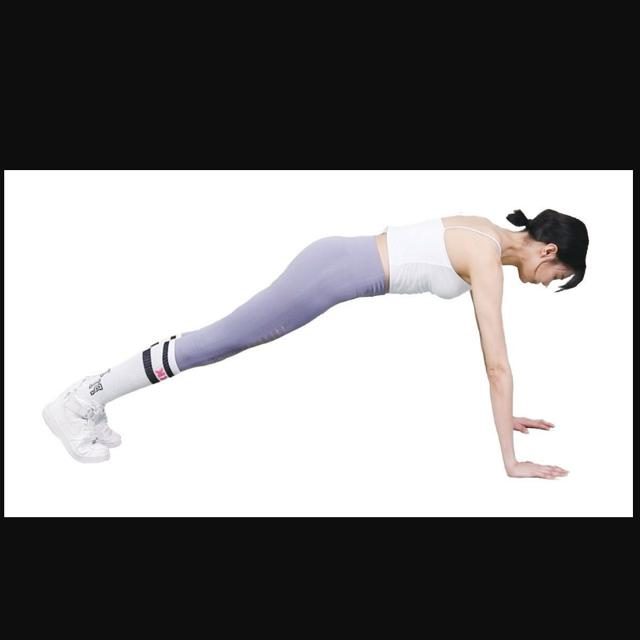Plank_Pose: (34, 203, 598, 495)
